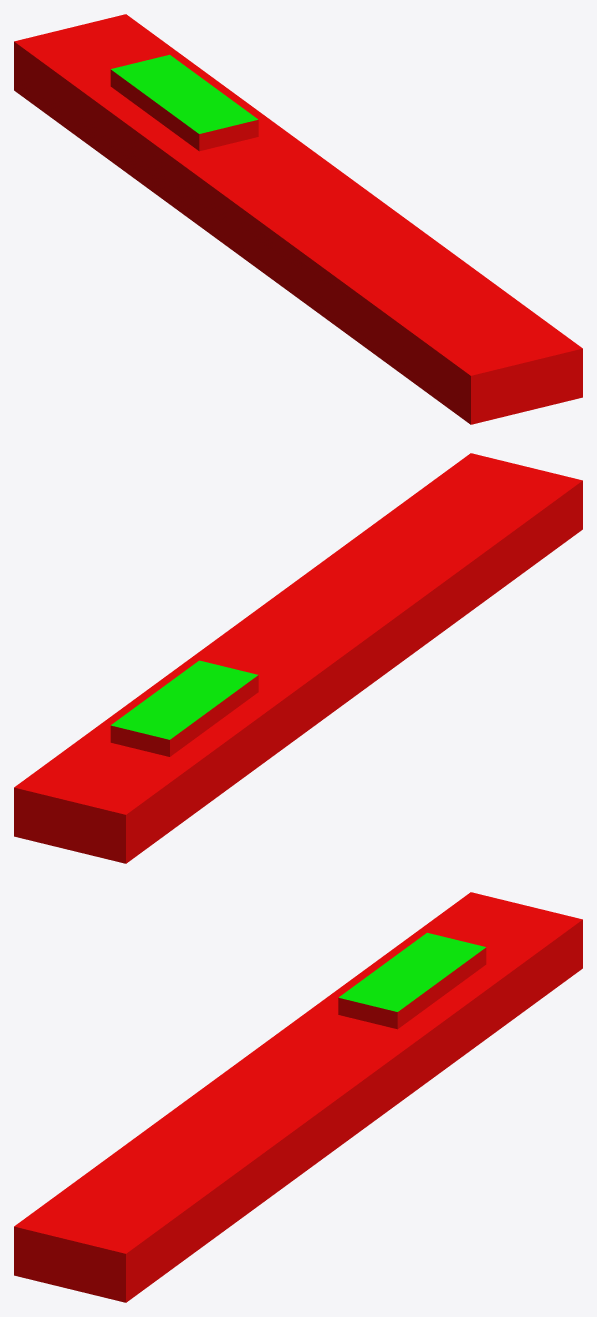
File: labeled.obj
3 renders of one model, top to bottom at view 1: azimuth 30°, elevation 25°; view 2: azimuth 150°, elevation 25°; view 3: azimuth 330°, elevation 25°, orthographic.
Size of the model in its own units: 0.0203 by 0.0114 by 0.1431.
